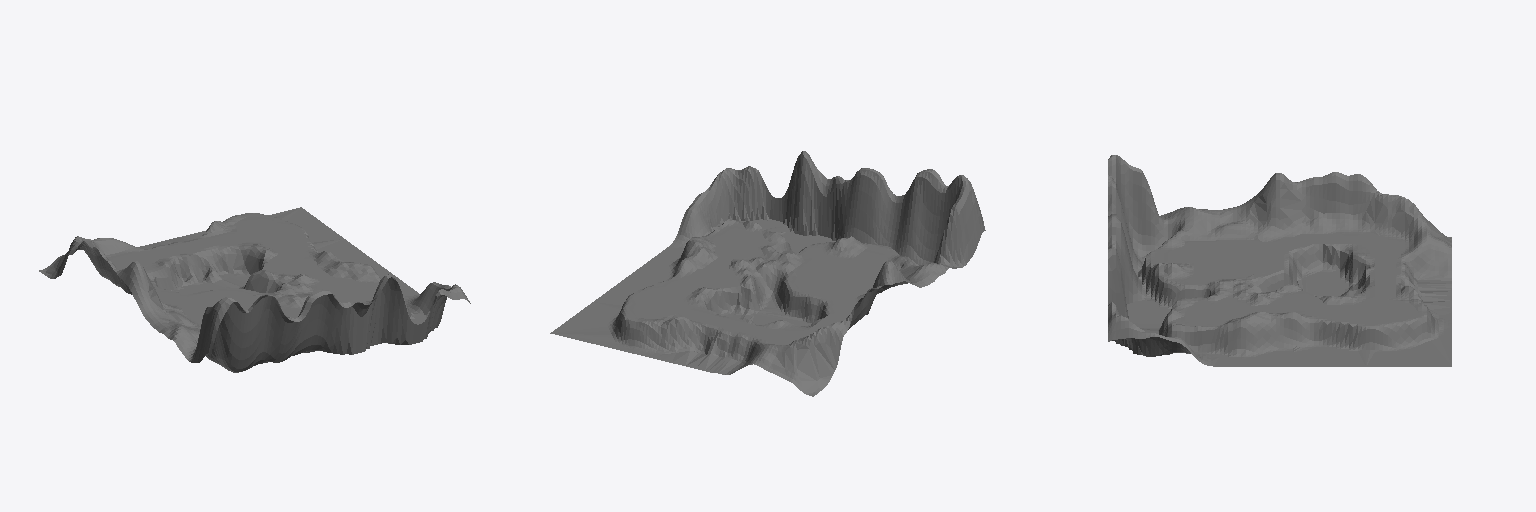
The model's file is SML.obj.
The picture shows the model from 3 angles: view 1: azimuth 30°, elevation 25°; view 2: azimuth 150°, elevation 25°; view 3: azimuth 270°, elevation 25°; orthographic projection.
Parts seen in each view (by area): view 1: SML_Mesh_03, SML_Mesh_02, SML_Mesh_01, SML_Mesh_04, SML_Mesh_05; view 2: SML_Mesh_03, SML_Mesh_02, SML_Mesh_04, SML_Mesh_01, SML_Mesh_05; view 3: SML_Mesh_03, SML_Mesh_04, SML_Mesh_01, SML_Mesh_02, SML_Mesh_05.
Part boxes in pixels (x1,y1,x2,y2): SML_Mesh_03: (131, 266, 470, 372); SML_Mesh_02: (162, 213, 404, 304); SML_Mesh_01: (89, 239, 302, 328); SML_Mesh_04: (39, 207, 397, 303); SML_Mesh_05: (154, 254, 278, 293); SML_Mesh_03: (646, 151, 985, 293); SML_Mesh_02: (616, 219, 786, 352); SML_Mesh_04: (550, 260, 905, 396); SML_Mesh_01: (734, 236, 914, 356); SML_Mesh_05: (707, 267, 824, 325); SML_Mesh_03: (1108, 155, 1292, 366); SML_Mesh_04: (1261, 172, 1451, 366); SML_Mesh_01: (1146, 217, 1421, 293); SML_Mesh_02: (1168, 266, 1430, 343); SML_Mesh_05: (1257, 250, 1365, 296).
Size of the model in its own units: 148 by 50.03 by 168.